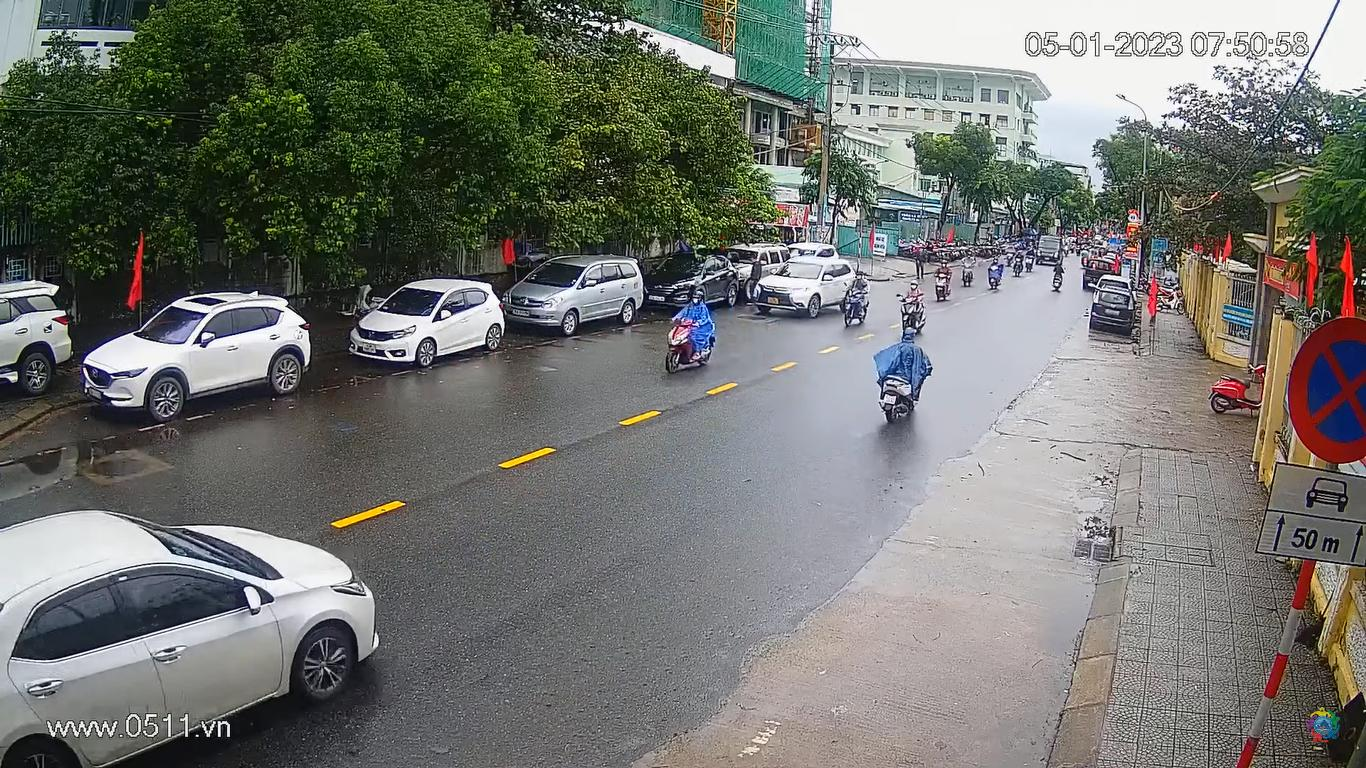car: (0, 494, 395, 767), (81, 290, 314, 424), (347, 279, 504, 368), (502, 253, 646, 336), (0, 279, 75, 396), (753, 256, 857, 318), (643, 251, 742, 309), (729, 244, 790, 300), (1088, 287, 1136, 331), (1083, 259, 1122, 288), (1095, 276, 1133, 299), (787, 243, 840, 259), (1037, 236, 1064, 267)
motorcycle: (868, 321, 937, 423), (662, 286, 720, 378), (1207, 359, 1269, 419), (842, 268, 876, 329), (896, 279, 930, 333), (931, 257, 952, 302), (1154, 289, 1188, 315), (959, 251, 976, 289), (1051, 258, 1067, 295), (989, 256, 1004, 293), (1013, 249, 1025, 278), (1024, 247, 1037, 271), (1004, 244, 1016, 267)
